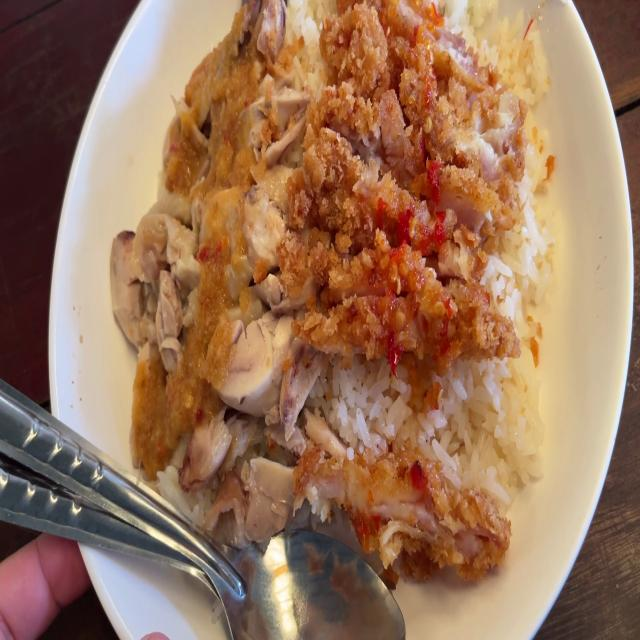chicken_rice: (111, 0, 308, 466)
